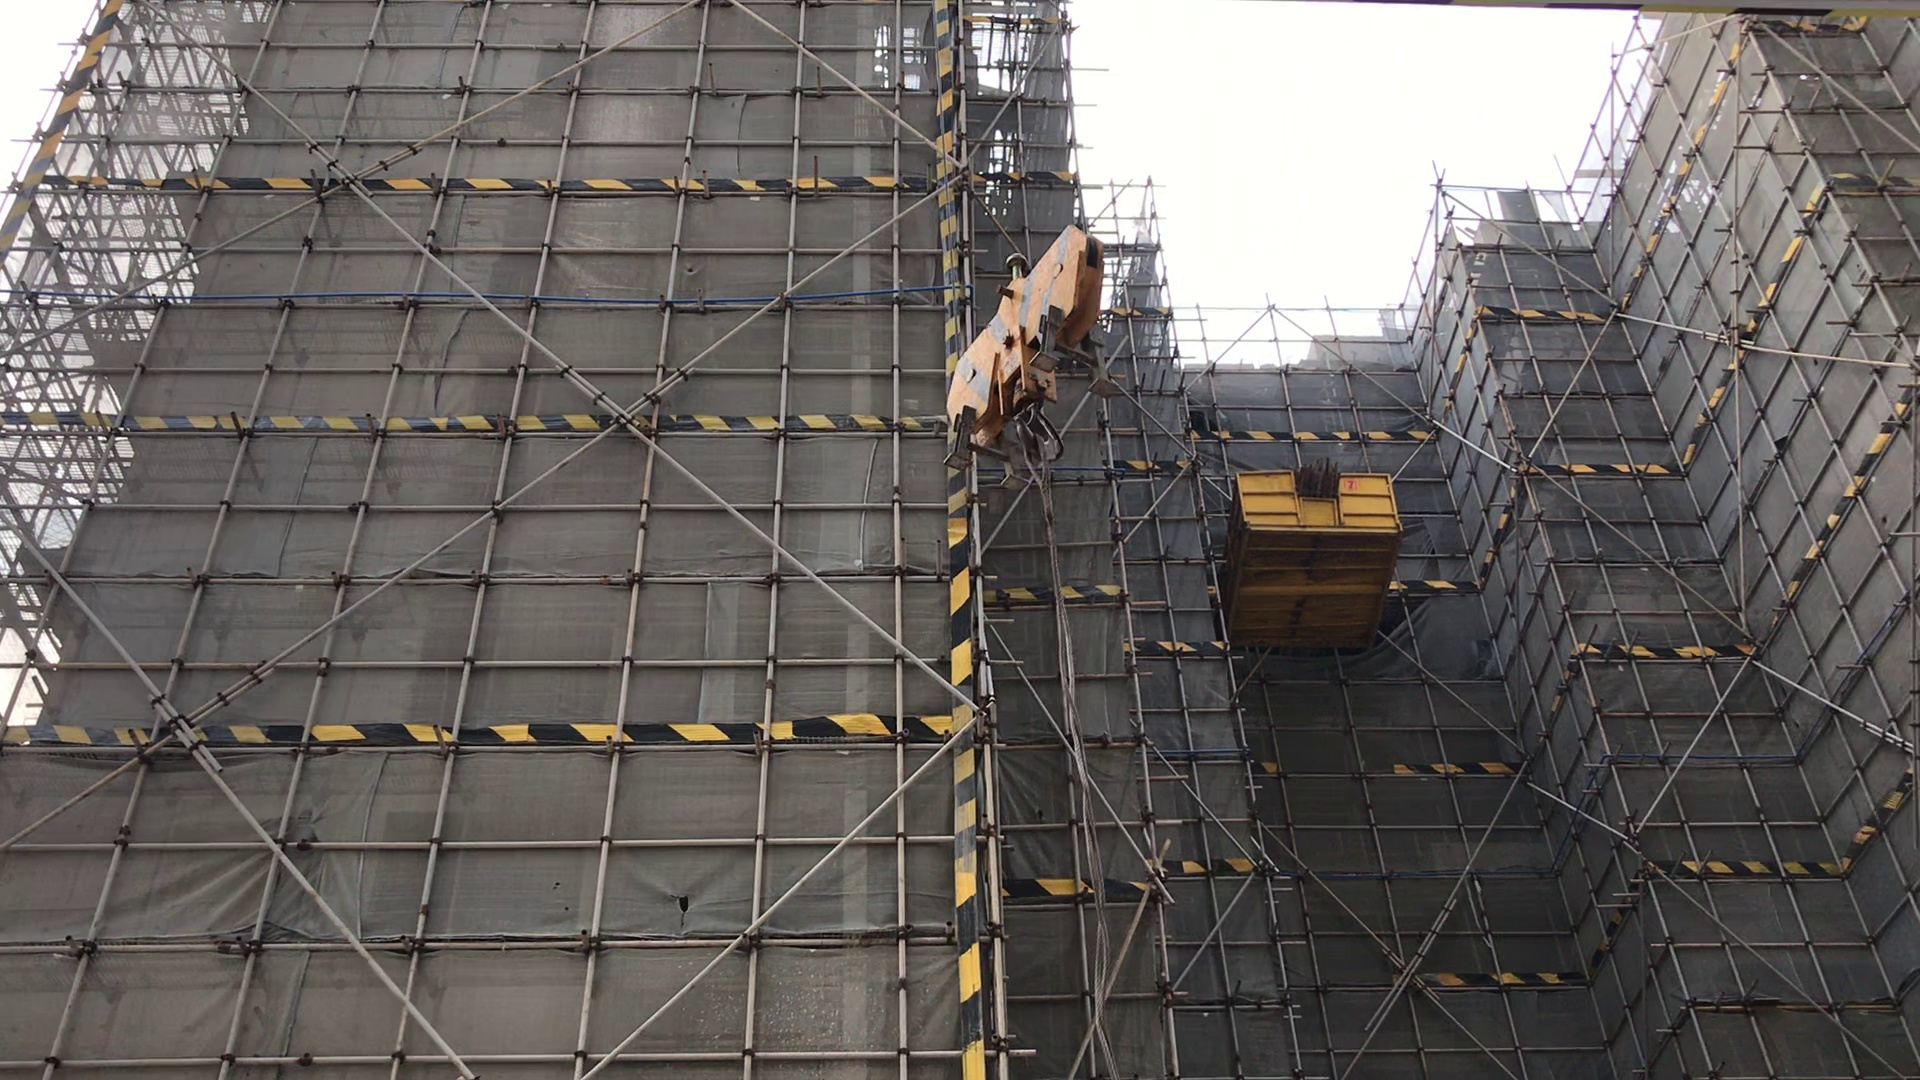hook: (934, 219, 1118, 479)
